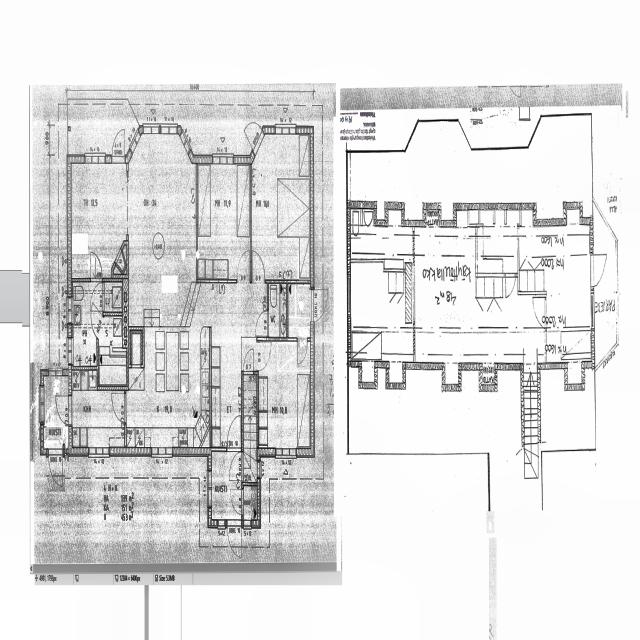Doors-dC8s: (350, 200, 380, 223), (253, 128, 265, 149), (95, 311, 103, 339), (88, 276, 105, 287), (124, 389, 128, 428), (208, 282, 211, 331), (109, 154, 124, 163), (49, 448, 63, 457), (251, 280, 266, 288), (227, 448, 242, 456), (228, 524, 241, 533), (68, 395, 72, 424), (312, 288, 314, 333), (592, 252, 594, 292), (237, 281, 252, 286), (244, 369, 254, 376), (545, 296, 547, 326), (256, 341, 258, 369), (133, 365, 141, 370), (297, 340, 309, 343), (196, 246, 198, 264), (505, 275, 518, 276), (268, 314, 268, 338)
Window: (452, 202, 536, 232), (598, 324, 618, 377), (594, 200, 616, 239), (352, 364, 379, 393), (421, 202, 446, 232), (477, 362, 499, 393), (387, 366, 407, 391), (441, 368, 461, 392), (386, 200, 406, 224), (276, 124, 297, 141), (130, 124, 143, 150), (150, 124, 173, 138), (211, 152, 235, 165), (66, 298, 75, 332), (564, 202, 583, 218), (84, 150, 104, 165), (183, 128, 191, 154), (90, 448, 110, 457), (150, 451, 172, 459), (412, 265, 415, 321), (40, 386, 44, 424), (49, 370, 63, 380), (208, 472, 211, 510), (274, 452, 296, 456), (115, 250, 121, 262), (274, 280, 288, 285), (217, 524, 227, 529), (242, 524, 250, 527)
